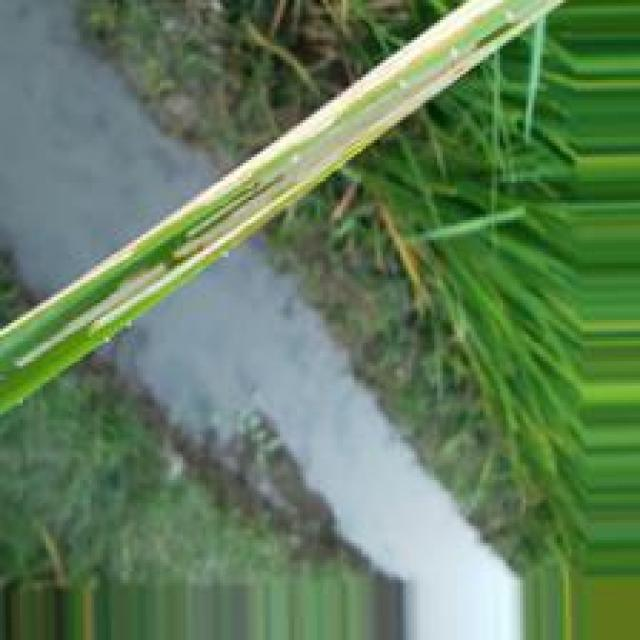Rice_Hispa: (0, 0, 572, 376)
